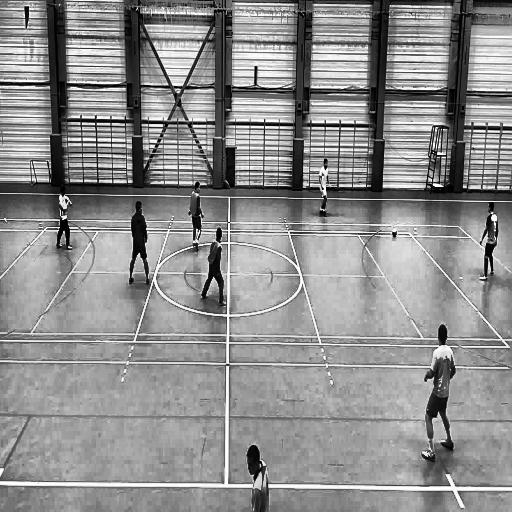ball: (392, 227, 398, 239)
player: (421, 324, 455, 464), (202, 227, 227, 309), (128, 200, 151, 289), (245, 443, 270, 512), (478, 200, 498, 282), (56, 183, 75, 252), (188, 179, 203, 257), (317, 157, 332, 219)
